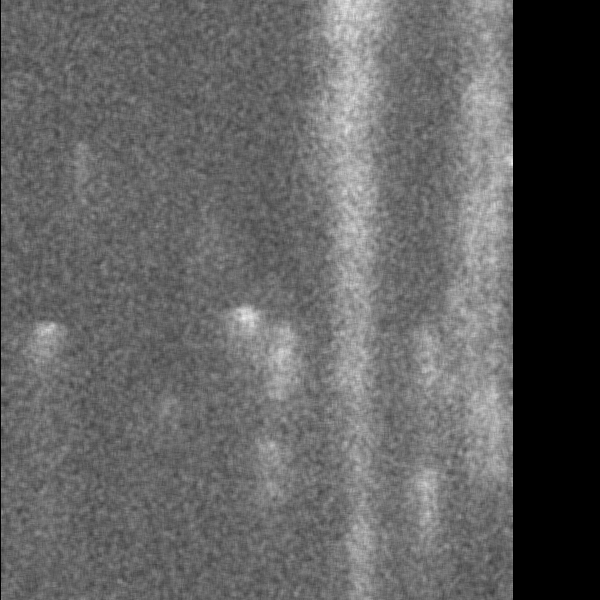spark: (28, 318, 67, 396), (408, 462, 442, 537), (253, 433, 286, 468)
